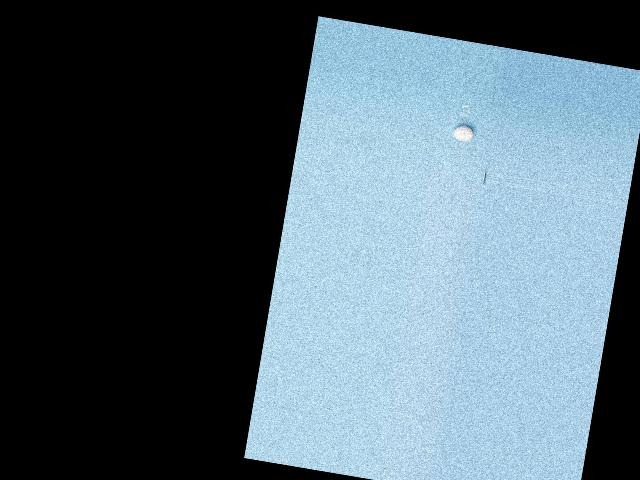egg: (453, 125, 474, 143)
